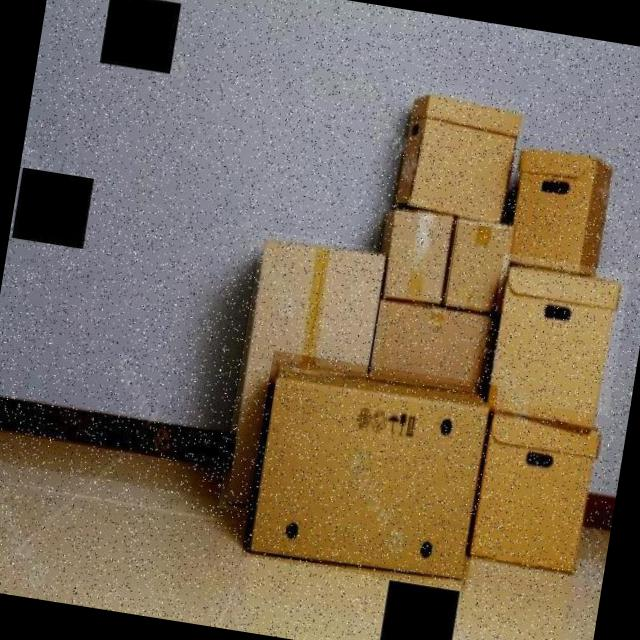box: (241, 350, 498, 592), (218, 230, 391, 529), (462, 398, 612, 586), (479, 252, 631, 433), (389, 78, 527, 230), (496, 136, 622, 287), (361, 294, 501, 401), (366, 202, 460, 314), (442, 214, 518, 321)
